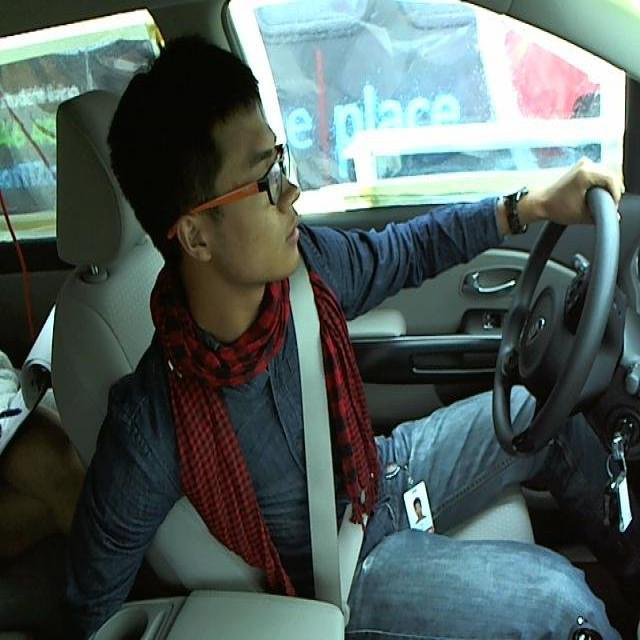seatbelt: (281, 286, 374, 598)
